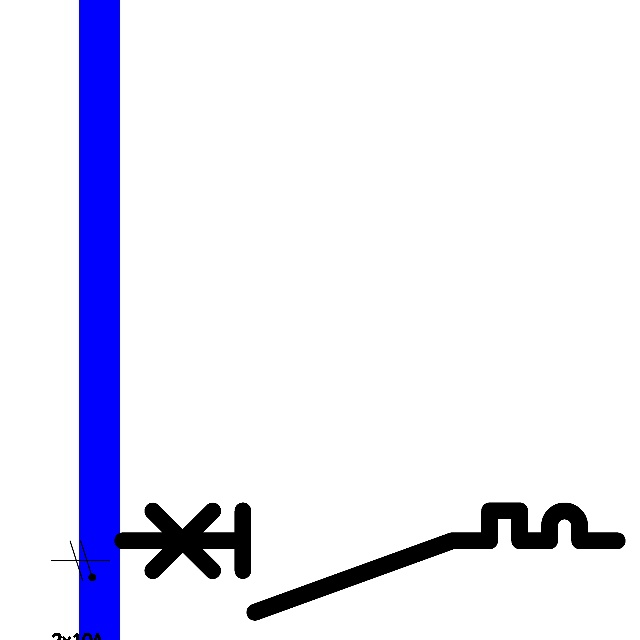interruptor_termomagnetico: (109, 498, 630, 625)
